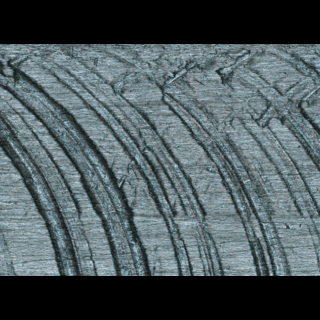d: (2, 44, 320, 273)
